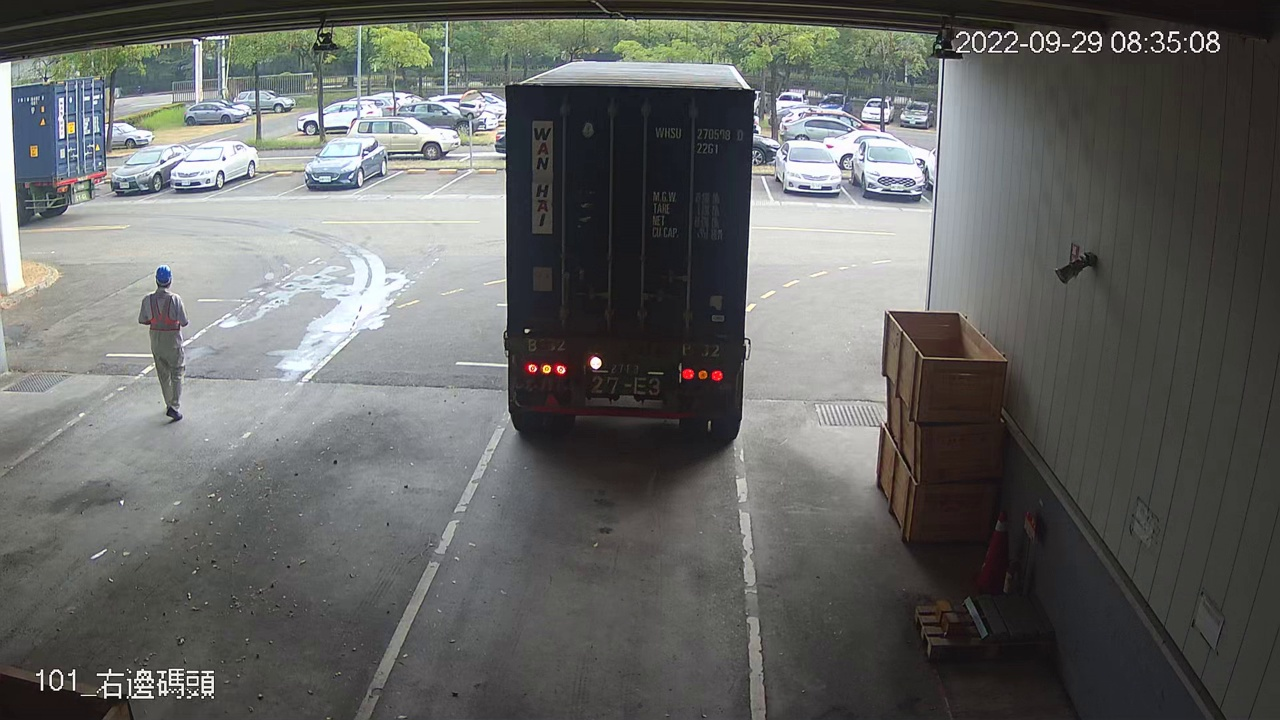container: (652, 120, 748, 162)
